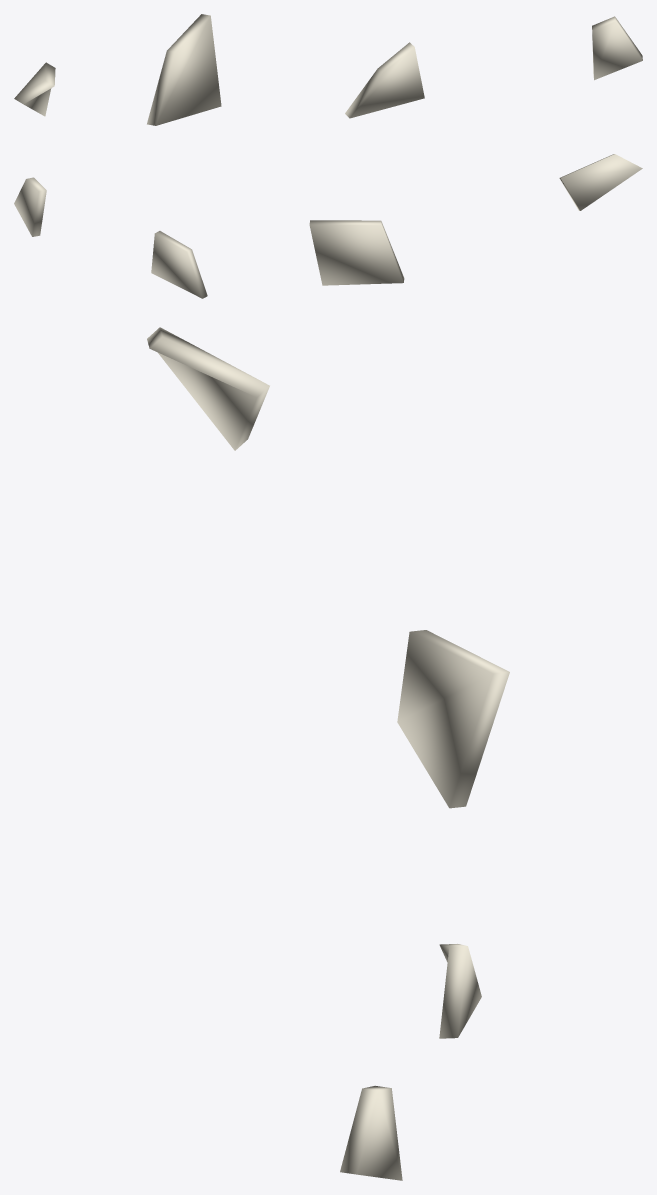
3 renders of one model, top to bottom at view 1: azimuth 30°, elevation 25°; view 2: azimuth 150°, elevation 25°; view 3: azimuth 270°, elevation 25°, orthographic. The views are drawn at different scales.
Parts seen in each view (by area): view 1: ZA_c87a9f430ea93a46; view 2: ZA_c87a9f430ea93a46; view 3: ZA_c87a9f430ea93a46.
Boxes of the visible parts, left/top/right/bottom form: ZA_c87a9f430ea93a46: left=14, top=14, right=642, bottom=125; ZA_c87a9f430ea93a46: left=14, top=154, right=642, bottom=298; ZA_c87a9f430ea93a46: left=147, top=327, right=509, bottom=1180.
Bounding box in the file's own units: 0.0356 × 0.00986 × 0.00965.
